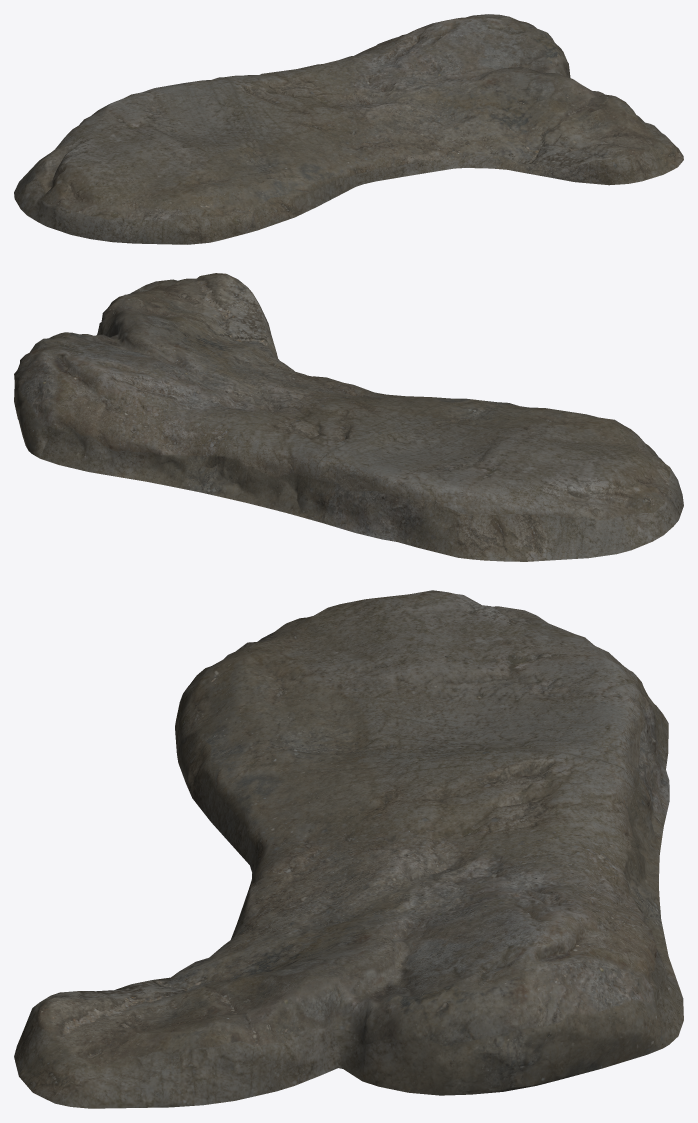
File: SM_xlbpfct_tier_2.gltf
3 views of the same model, one above another, from view 1: azimuth 30°, elevation 25°; view 2: azimuth 150°, elevation 25°; view 3: azimuth 270°, elevation 25° (orthographic). The views are drawn at different scales.
Parts seen in each view (by area): view 1: SM_xlbpfct; view 2: SM_xlbpfct; view 3: SM_xlbpfct.
Boxes of the visible parts, x1,y1,x2,y2 form: SM_xlbpfct: (14,14,683,244); SM_xlbpfct: (14,273,683,561); SM_xlbpfct: (14,590,683,1108).
Size of the model in its own units: 0.7527 by 0.0769 by 0.4403.
1 material, 1 textured.
